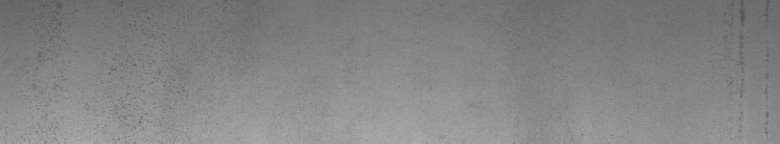ib: (29, 24, 185, 131)
